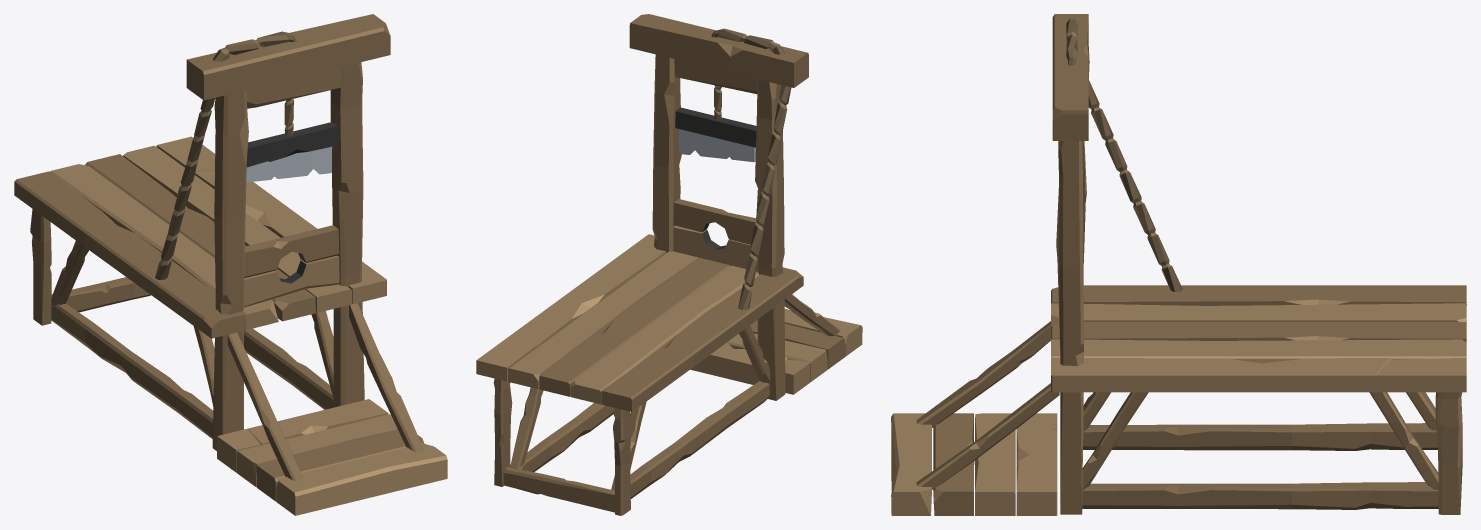
The model's file is WF_LP_HT_Props_Guillotine.fbx.
The picture shows the model from 3 angles, left to right: view 1: azimuth 30°, elevation 25°; view 2: azimuth 150°, elevation 25°; view 3: azimuth 270°, elevation 25°; orthographic projection. The views are drawn at different scales.
Visible parts, largest first — view 1: WF_LP_HT_Props_Guillotine; view 2: WF_LP_HT_Props_Guillotine; view 3: WF_LP_HT_Props_Guillotine.
Boxes of the visible parts, x1=… form: WF_LP_HT_Props_Guillotine: x1=14, y1=14, x2=447, y2=515; WF_LP_HT_Props_Guillotine: x1=476, y1=14, x2=862, y2=515; WF_LP_HT_Props_Guillotine: x1=891, y1=14, x2=1466, y2=515.
Bounding box in the file's own units: 1.39 × 2.86 × 3.49.
